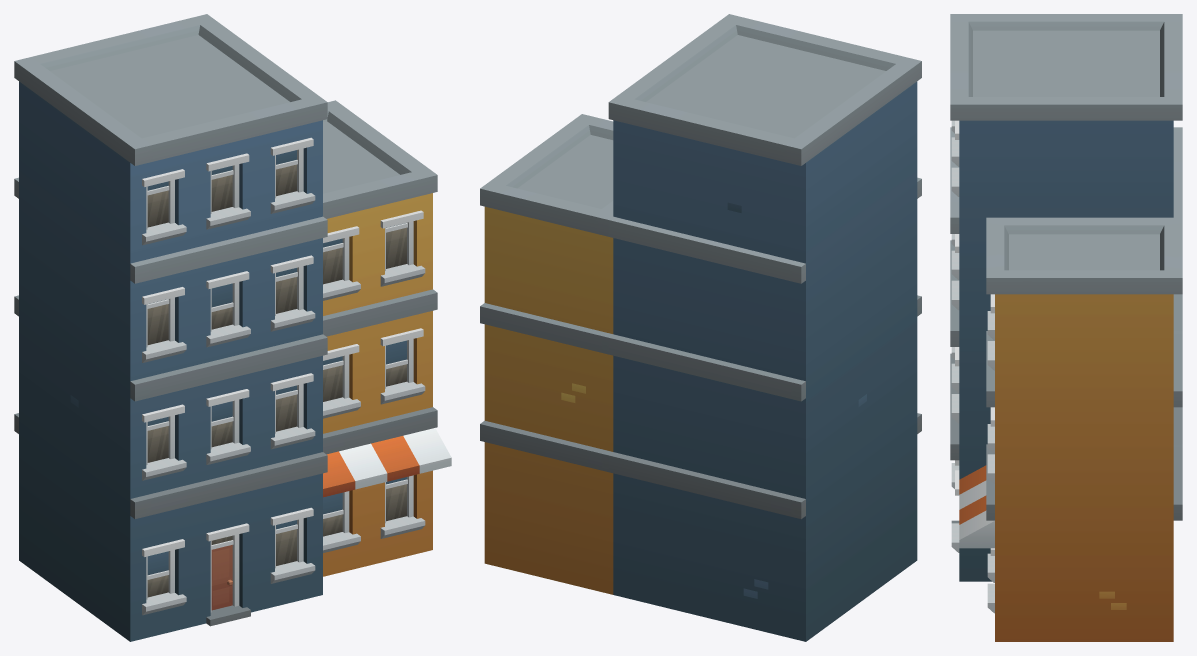
File: shop_h.glb
3 renders of one model, left to right at view 1: azimuth 30°, elevation 25°; view 2: azimuth 150°, elevation 25°; view 3: azimuth 270°, elevation 25°, orthographic. The views are drawn at different scales.
Parts seen in each view (by area): view 1: building_H_withoutBase; view 2: building_H_withoutBase; view 3: building_H_withoutBase.
Part boxes in pixels (x1,y1,x2,y2): building_H_withoutBase: (14, 14, 451, 641); building_H_withoutBase: (480, 14, 921, 641); building_H_withoutBase: (950, 14, 1182, 641).
Bounding box in the file's own units: 2.01 × 2.95 × 1.3.
1 material, 1 textured.
